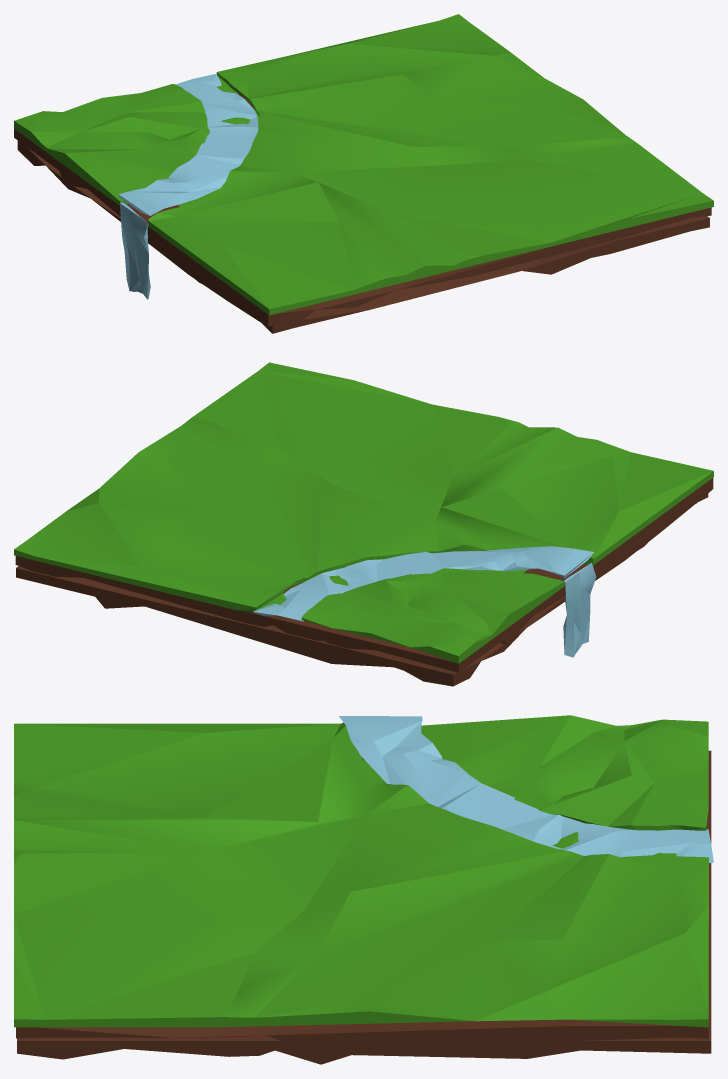
Rendered from Terrain_005.FBX.
3 renders of one model, top to bottom at view 1: azimuth 30°, elevation 25°; view 2: azimuth 150°, elevation 25°; view 3: azimuth 270°, elevation 25°, orthographic. The views are drawn at different scales.
Visible parts, largest first — view 1: Box002, Box003, Box005, Box048, Box006; view 2: Box002, Box003, Box048, Box005, Box006; view 3: Box002, Box005, Box003, Box048.
Boxes of the visible parts, x1,y1,x2,y2 form: Box002: (14,14,713,315); Box003: (14,93,711,326); Box005: (118,74,258,215); Box048: (17,140,709,333); Box006: (120,202,150,299); Box002: (14,362,713,663); Box003: (15,478,713,672); Box048: (16,493,708,686); Box005: (253,546,594,621); Box006: (563,562,596,657); Box002: (14,715,709,1027); Box005: (339,716,713,862); Box003: (16,748,708,1050); Box048: (17,750,711,1064).
Bounding box in the file's own units: 288 × 56.93 × 286.
